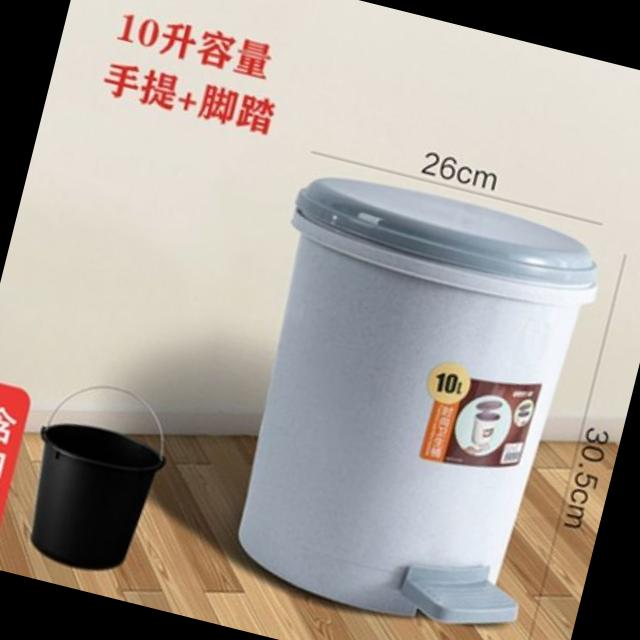dustbin: (193, 156, 621, 640)
